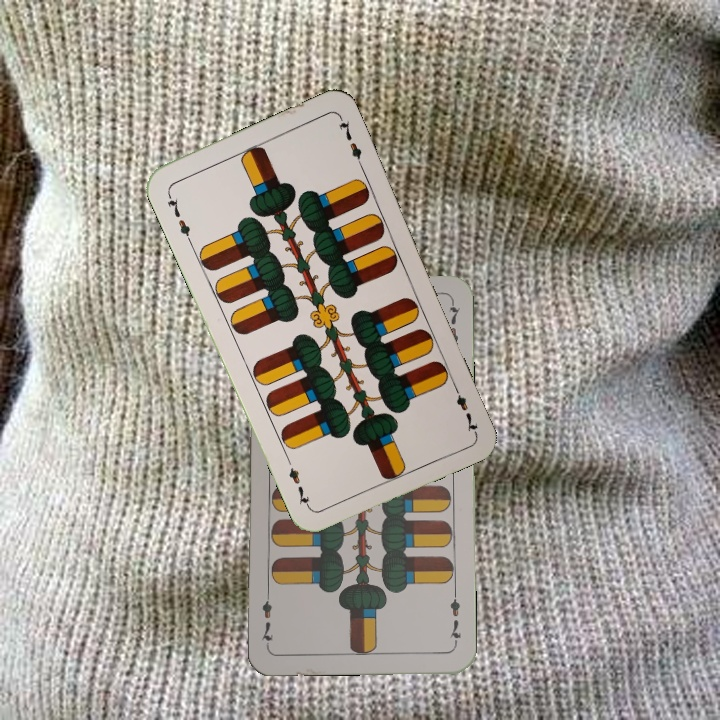E7: (448, 379, 480, 435), (163, 189, 194, 245), (446, 589, 464, 648)
